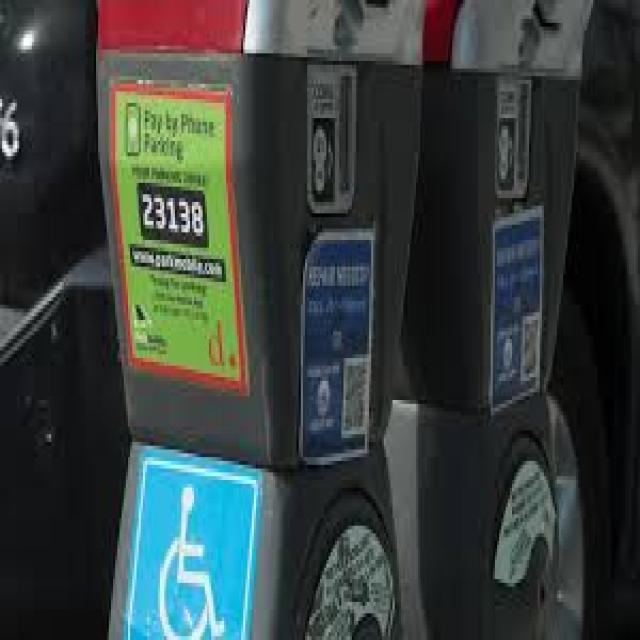symbol_of_access: (157, 486, 226, 640)
